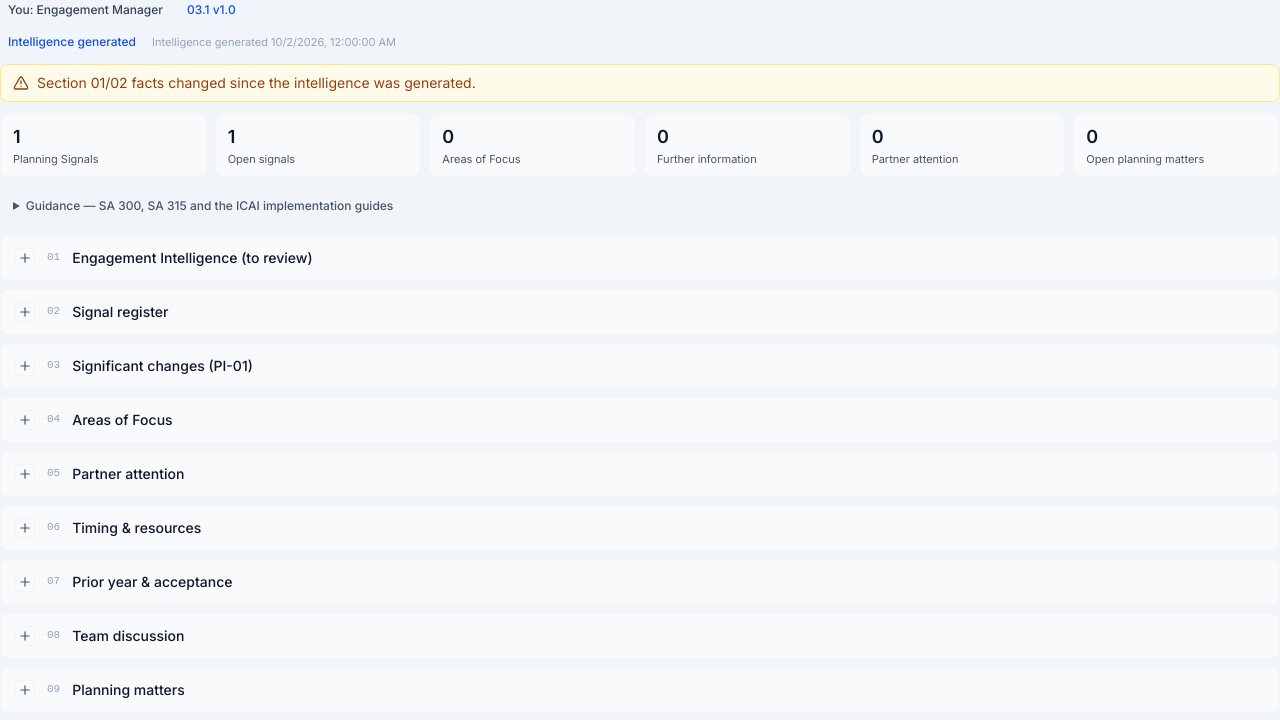
03.1 Planning Intelligence panel › leaves the refresh and the review to a role that may assess (§23)
The image size is (1280, 720).
Expected: the text "facts changed since the intelligence" is shown, [37, 74, 476, 91]
Step 1. Click the button "01 Engagement Intelligence (to review)" → click(192, 257), box [0, 234, 1279, 280]
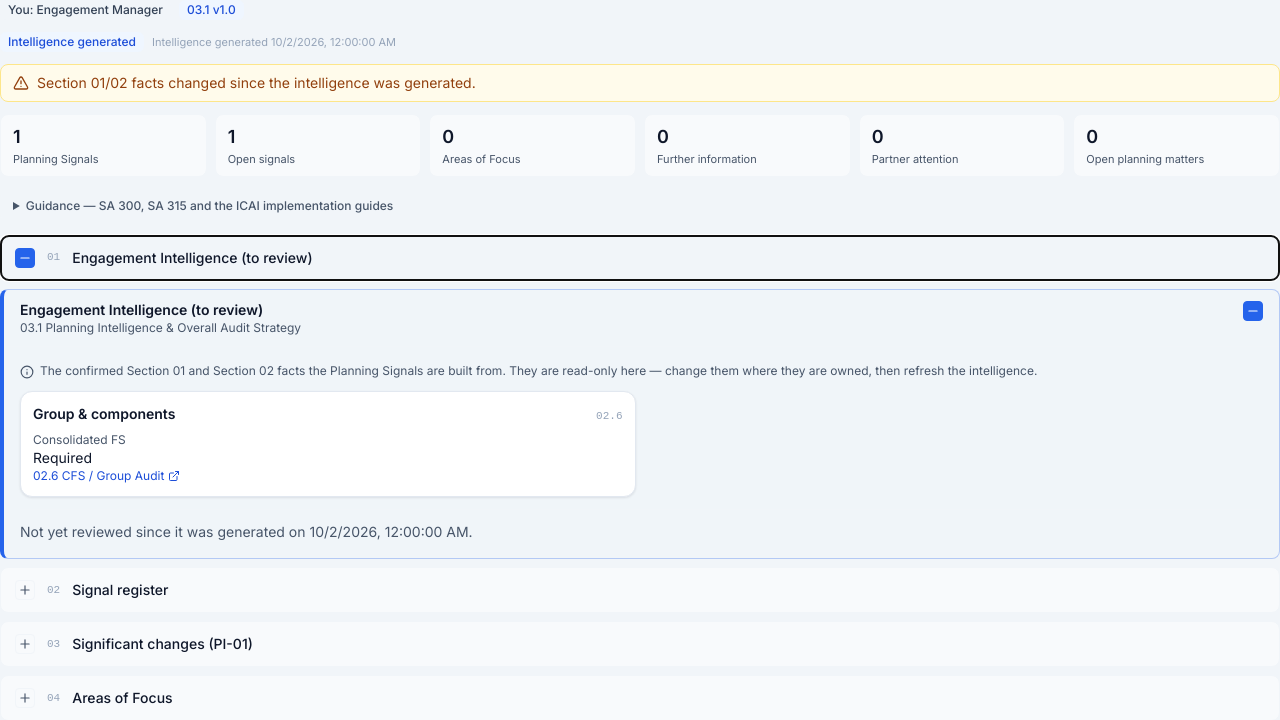
Result: the text "Consolidated FS" is shown at [33, 432, 126, 447]
